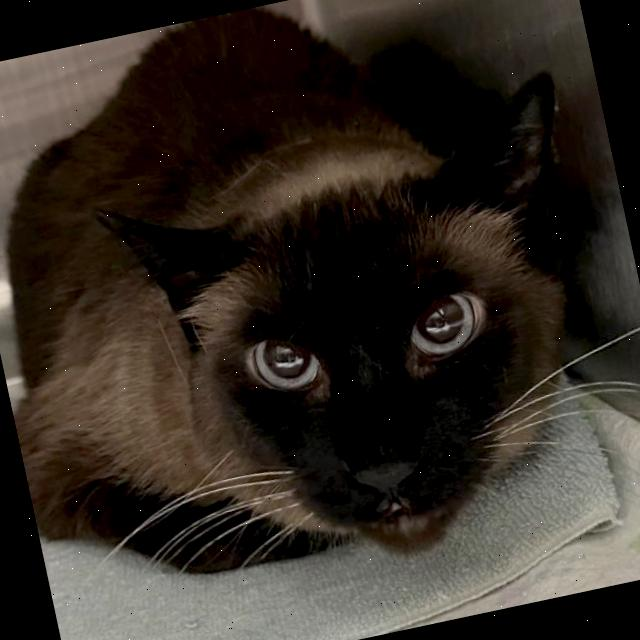siamese_cat: (51, 35, 640, 637)
